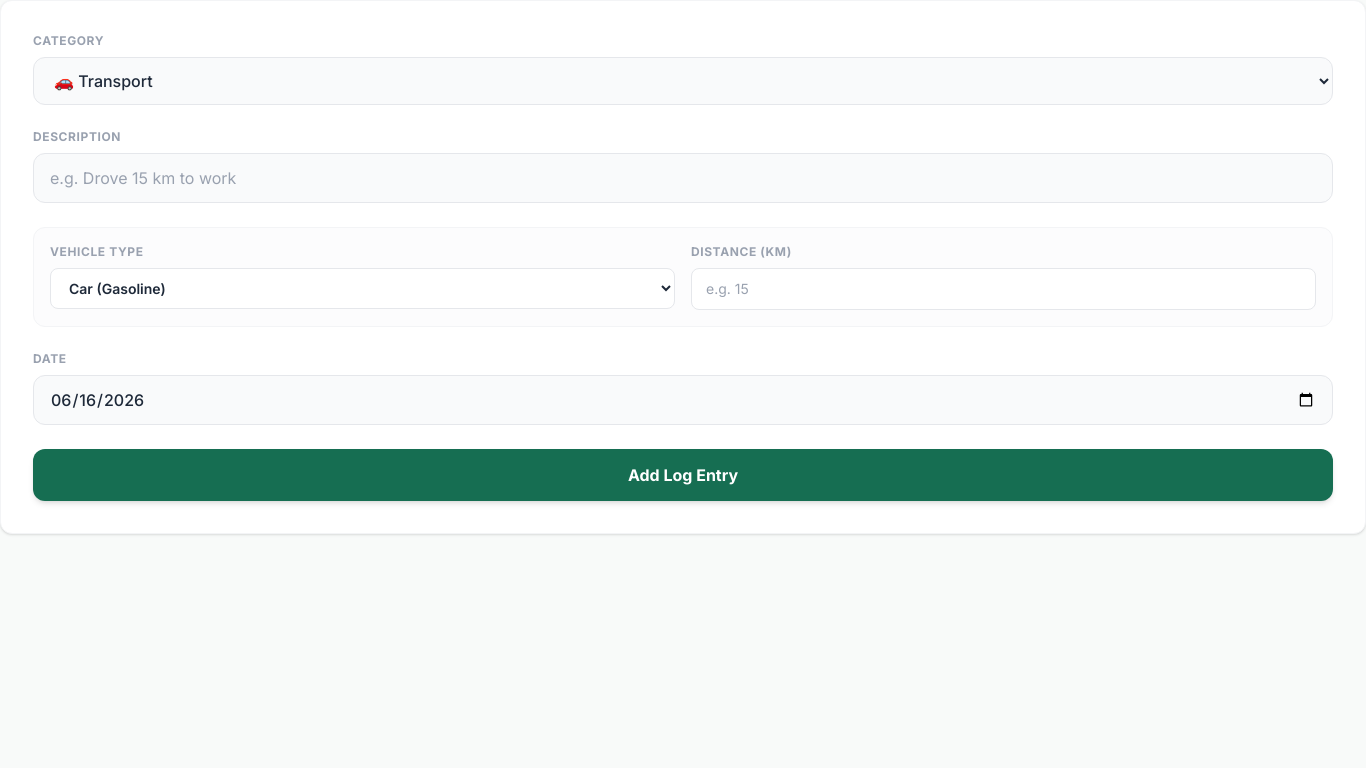
ActivityForm Component › shows validation error when negative value entered for transport distance
This screenshot has width=1366, height=768.
In the field labelled "Description": coordinates (683, 178) [33,153,1333,203], type "Driving"
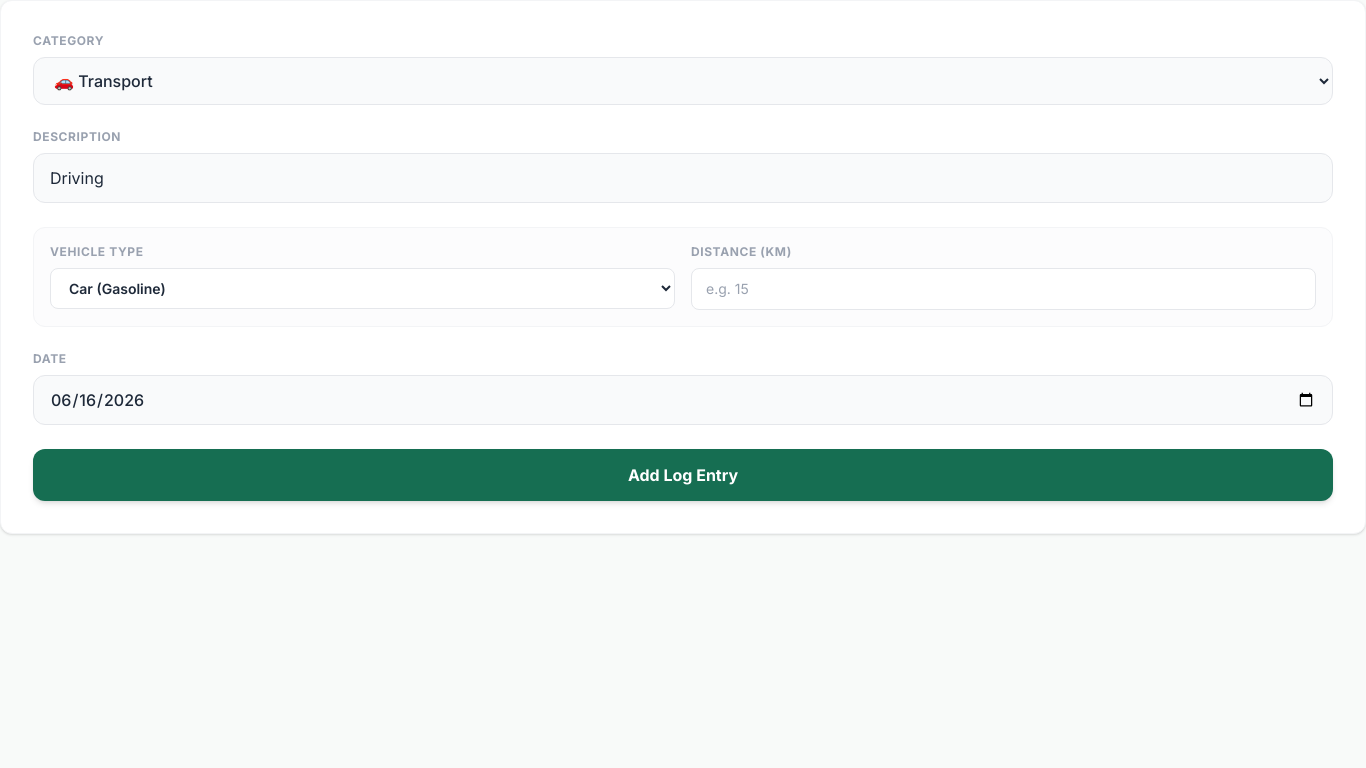
In the number field labelled "Distance (km)": coordinates (1004, 289) [691,268,1316,310], type "-5"
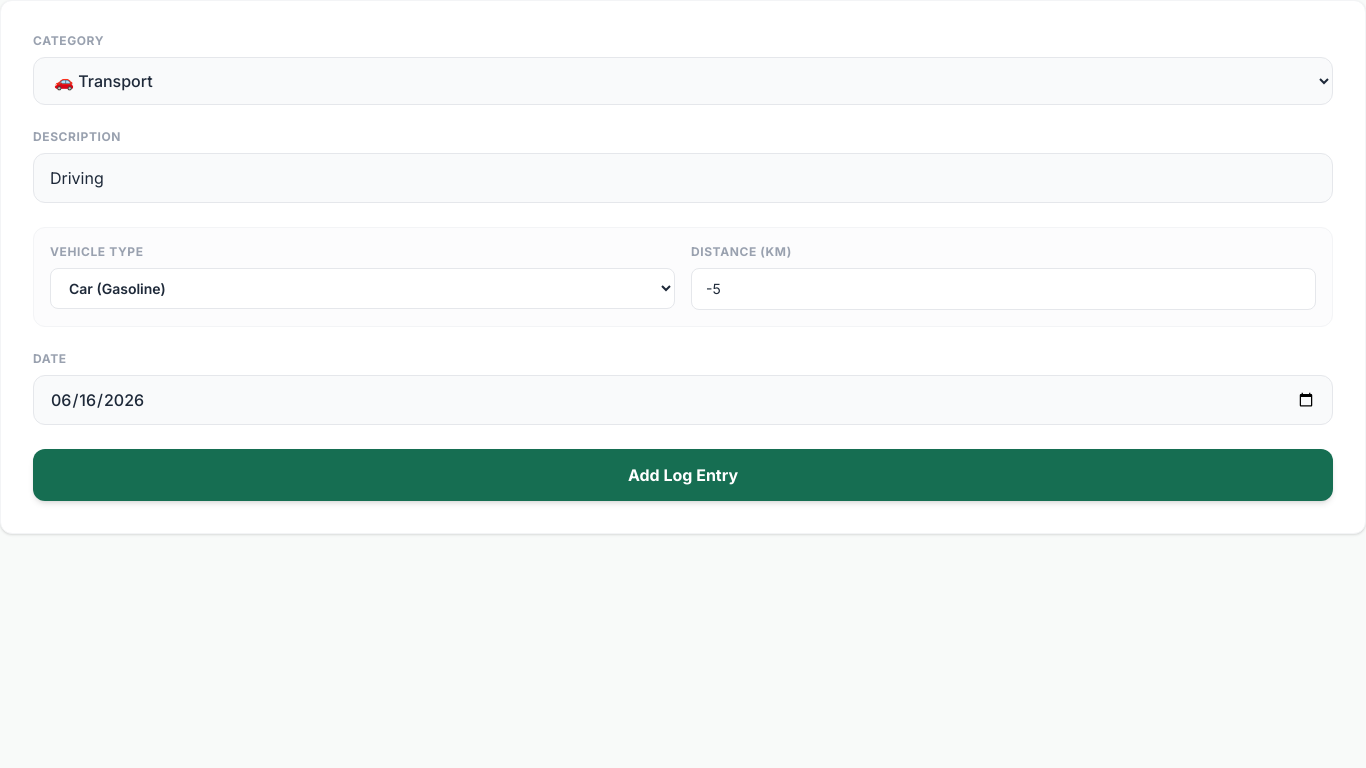
Click the button "Add Log Entry": coordinates (683, 475) [33,449,1333,501]
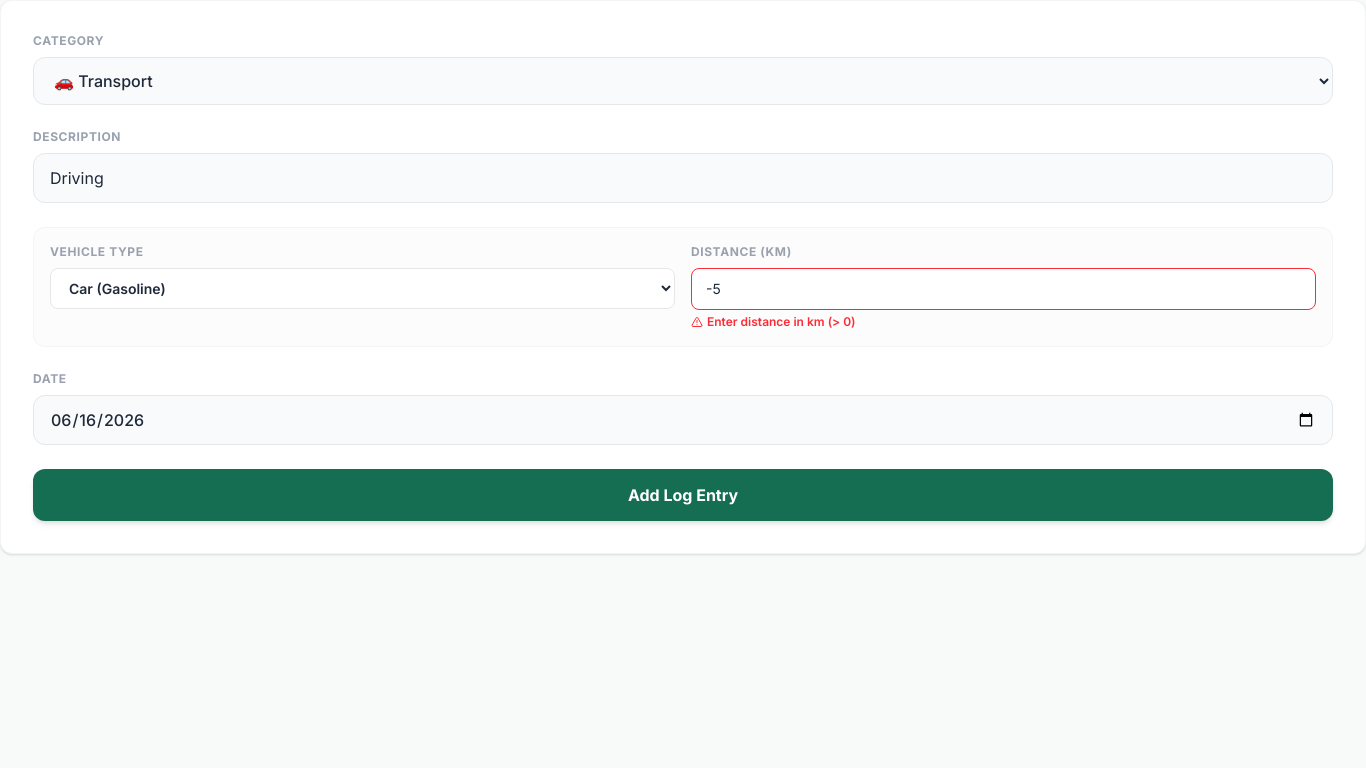
Expected: the text "Enter distance in km (> 0)" is shown, [691,314,856,329]
